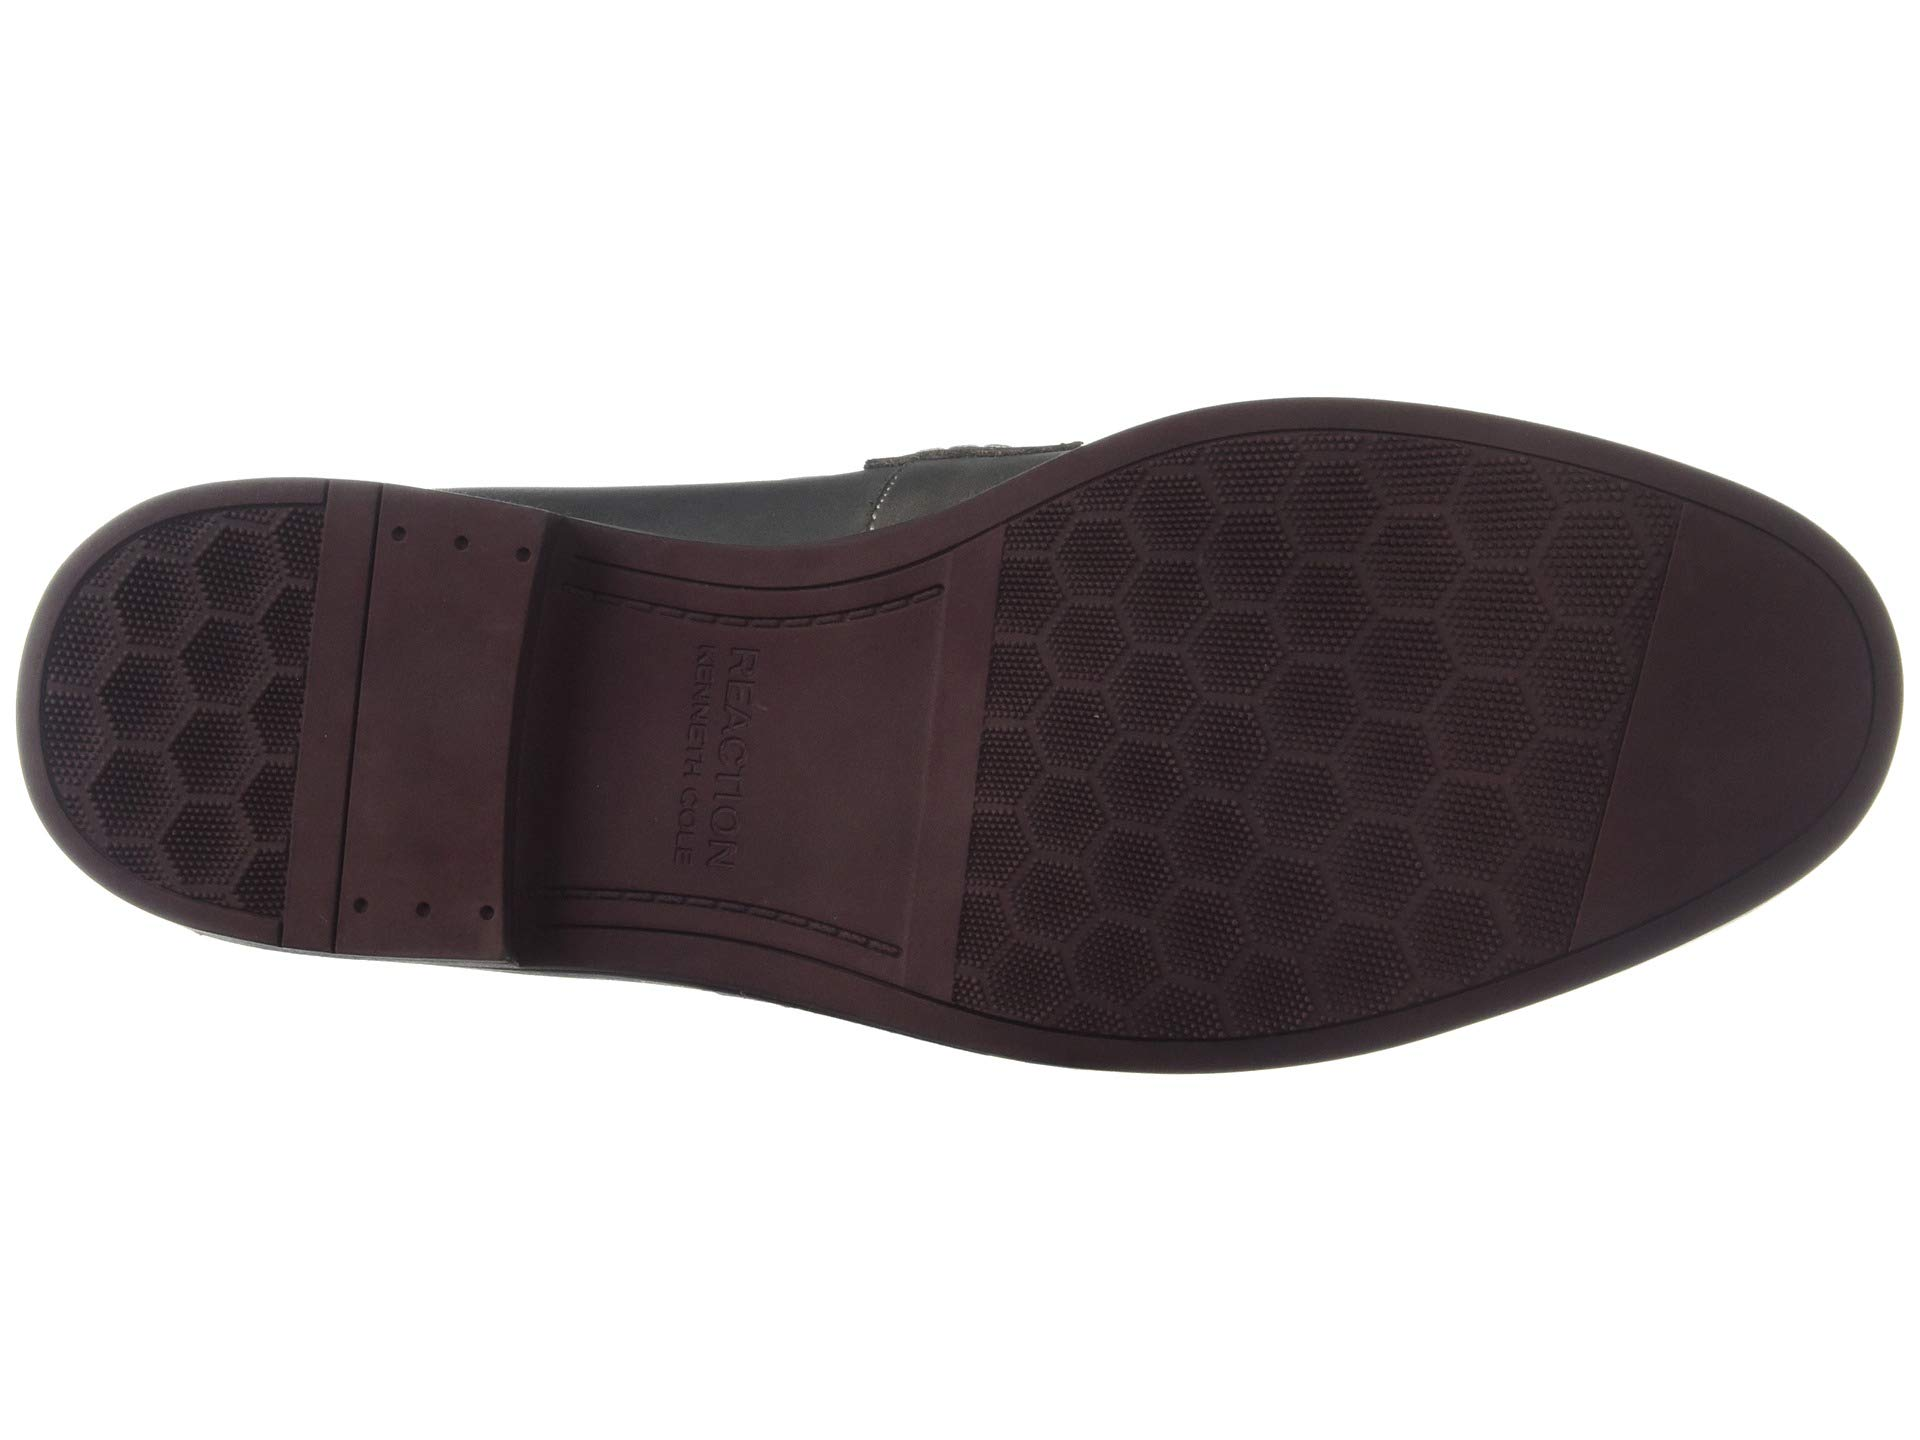circle: (996, 501, 1619, 982), (112, 582, 280, 880), (376, 502, 534, 576), (342, 879, 503, 945)
exclude: (506, 496, 1002, 1048)
polygon: (996, 501, 1619, 982), (112, 582, 280, 880)
